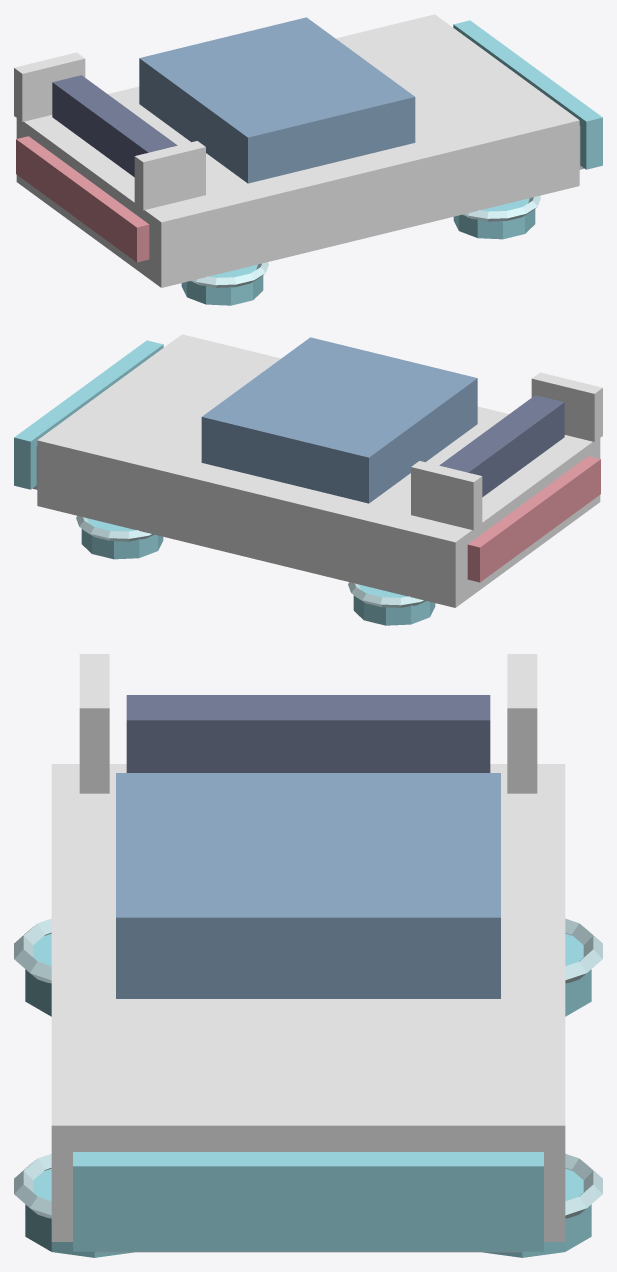
The model's file is auto_flotante.glb.
3 renders of one model, top to bottom at view 1: azimuth 30°, elevation 25°; view 2: azimuth 150°, elevation 25°; view 3: azimuth 270°, elevation 25°, orthographic. The views are drawn at different scales.
Visible parts, largest first — view 1: auto_flotante; view 2: auto_flotante; view 3: auto_flotante.
Boxes of the visible parts, x1,y1,x2,y2 form: auto_flotante: (14,14,602,305); auto_flotante: (14,334,602,625); auto_flotante: (14,654,602,1257).
Size of the model in its own units: 2.2 by 0.685 by 1.38.
